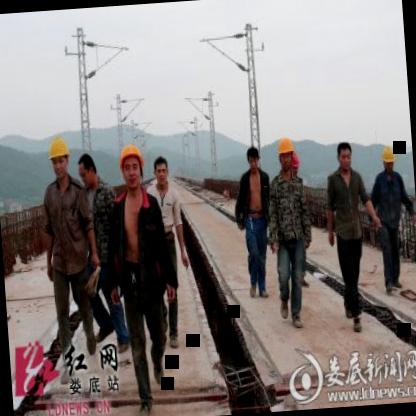head: (72, 147, 102, 192), (334, 138, 354, 172), (152, 153, 170, 189), (245, 140, 264, 173)
helmet: (45, 130, 75, 183), (118, 137, 147, 191), (274, 134, 300, 175), (378, 142, 398, 178)
